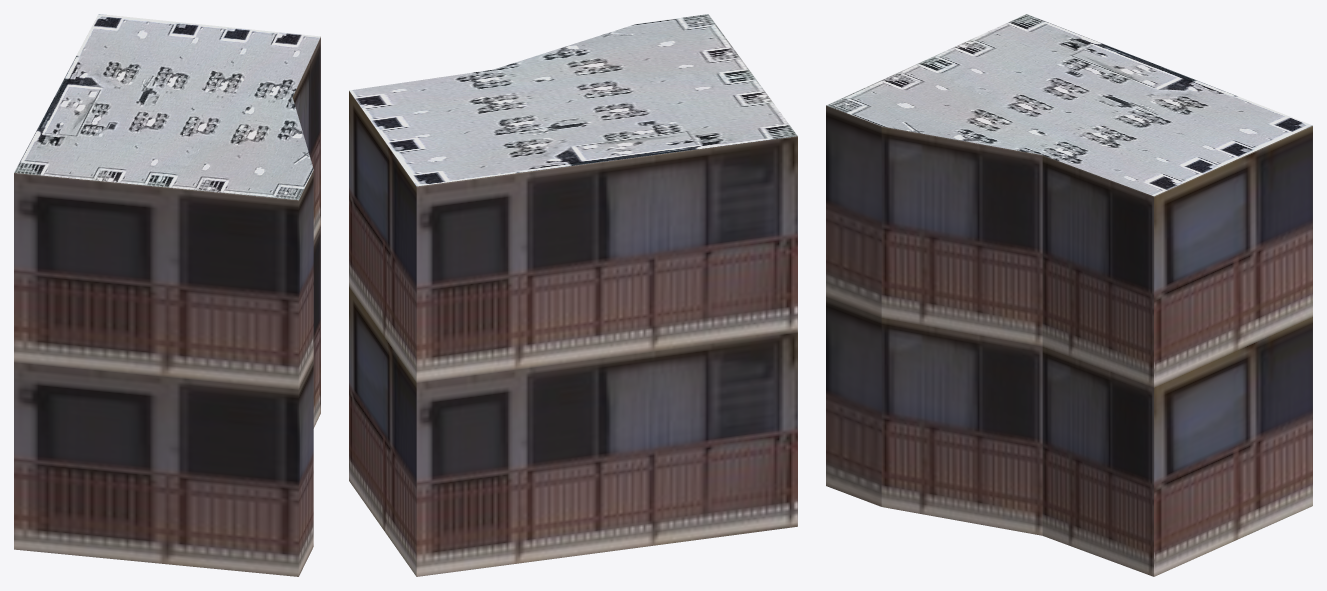
File: ResTex__3189.fbx
3 views of the same model, side by side, from view 1: azimuth 30°, elevation 25°; view 2: azimuth 150°, elevation 25°; view 3: azimuth 270°, elevation 25° (orthographic). The views are drawn at different scales.
Parts seen in each view (by area): view 1: CityEngineMaterial_6_m, CityEngineMaterial_8_m; view 2: CityEngineMaterial_6_m, CityEngineMaterial_8_m; view 3: CityEngineMaterial_6_m, CityEngineMaterial_8_m.
Part boxes in pixels (x1=…): CityEngineMaterial_6_m: x1=14, y1=37, x2=320, y2=576; CityEngineMaterial_8_m: x1=14, y1=14, x2=320, y2=200; CityEngineMaterial_6_m: x1=349, y1=91, x2=797, y2=576; CityEngineMaterial_8_m: x1=349, y1=14, x2=797, y2=186; CityEngineMaterial_6_m: x1=826, y1=105, x2=1312, y2=576; CityEngineMaterial_8_m: x1=826, y1=14, x2=1312, y2=196.
Bounding box in the file's own units: 6.17 × 6 × 6.96.
Materials: 2 (2 with a texture image).
